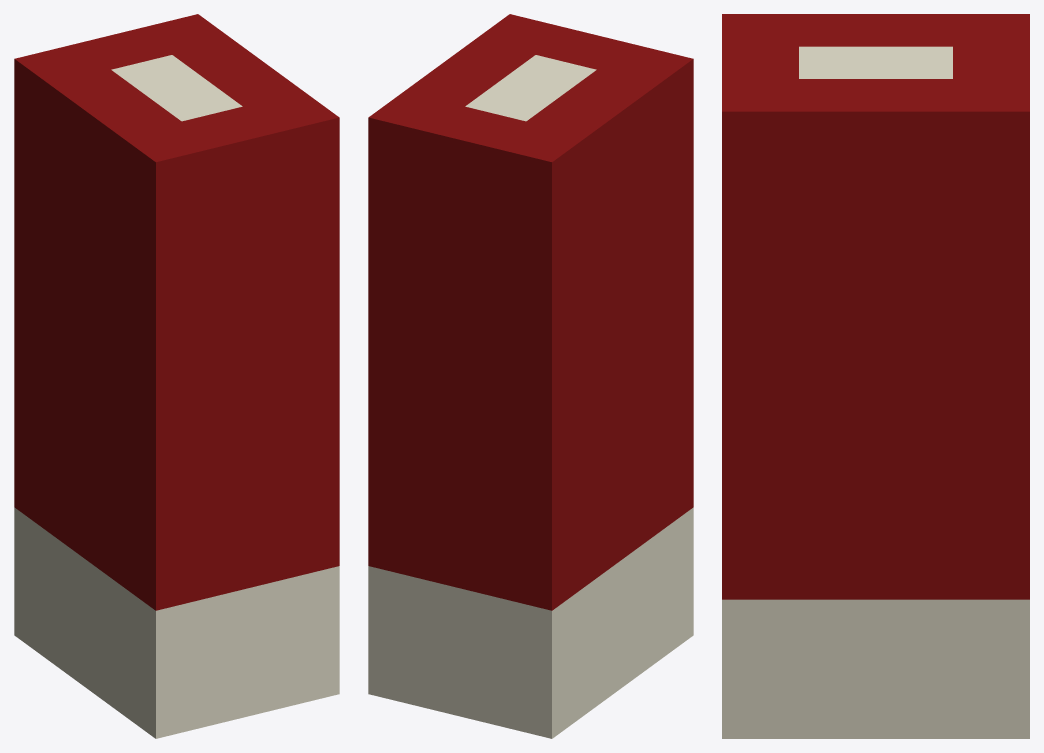
File: character.vox-7-player-1-arm.obj
3 renders of one model, left to right at view 1: azimuth 30°, elevation 25°; view 2: azimuth 150°, elevation 25°; view 3: azimuth 270°, elevation 25°, orthographic. The views are drawn at different scales.
Parts seen in each view (by area): view 1: player-1-arm; view 2: player-1-arm; view 3: player-1-arm.
Part boxes in pixels (x1,y1,x2,y2): player-1-arm: (14, 14, 339, 738); player-1-arm: (368, 14, 693, 738); player-1-arm: (722, 14, 1029, 738).
Size of the model in its own units: 0.3 by 0.9 by 0.4.
1 material, 1 textured.
